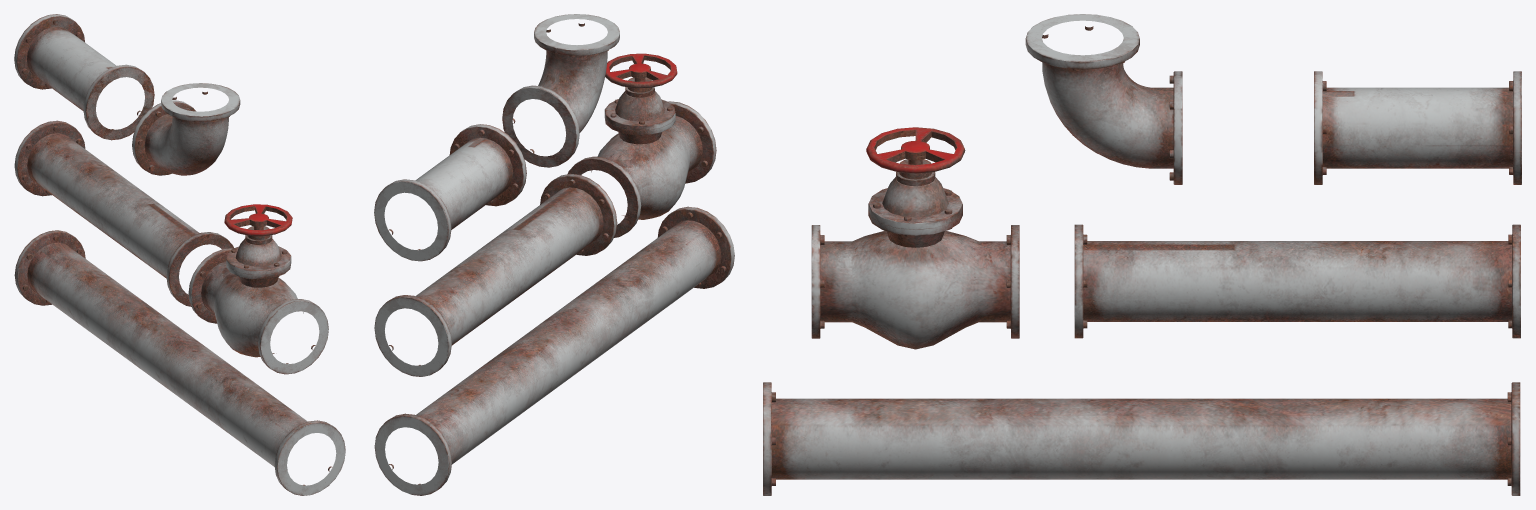
File: pipes.glb
3 renders of one model, left to right at view 1: azimuth 30°, elevation 25°; view 2: azimuth 150°, elevation 25°; view 3: azimuth 270°, elevation 25°, orthographic. The views are drawn at different scales.
Parts seen in each view (by area): view 1: Plane_2, Plane.001_4, Plane.004_10, Plane.002_6, Plane.003_8, Plane.005_12; view 2: Plane_2, Plane.001_4, Plane.004_10, Plane.002_6, Plane.003_8, Plane.005_12; view 3: Plane_2, Plane.001_4, Plane.004_10, Plane.002_6, Plane.003_8, Plane.005_12.
Boxes of the visible parts, x1,y1,x2,y2 form: Plane_2: (14, 230, 345, 495); Plane.001_4: (14, 120, 233, 306); Plane.004_10: (188, 226, 328, 374); Plane.002_6: (14, 14, 154, 140); Plane.003_8: (132, 83, 240, 175); Plane.005_12: (224, 204, 292, 236); Plane_2: (374, 206, 734, 495); Plane.001_4: (374, 173, 617, 376); Plane.004_10: (567, 77, 716, 237); Plane.002_6: (374, 124, 526, 261); Plane.003_8: (502, 14, 619, 167); Plane.005_12: (605, 53, 677, 88); Plane_2: (763, 382, 1520, 495); Plane.001_4: (1074, 224, 1520, 338); Plane.004_10: (811, 159, 1019, 349); Plane.002_6: (1314, 71, 1521, 184); Plane.003_8: (1025, 14, 1182, 184); Plane.005_12: (866, 127, 965, 173).
Size of the model in its own units: 0.748 by 3.04 by 4.62.
1 material, 1 textured.
